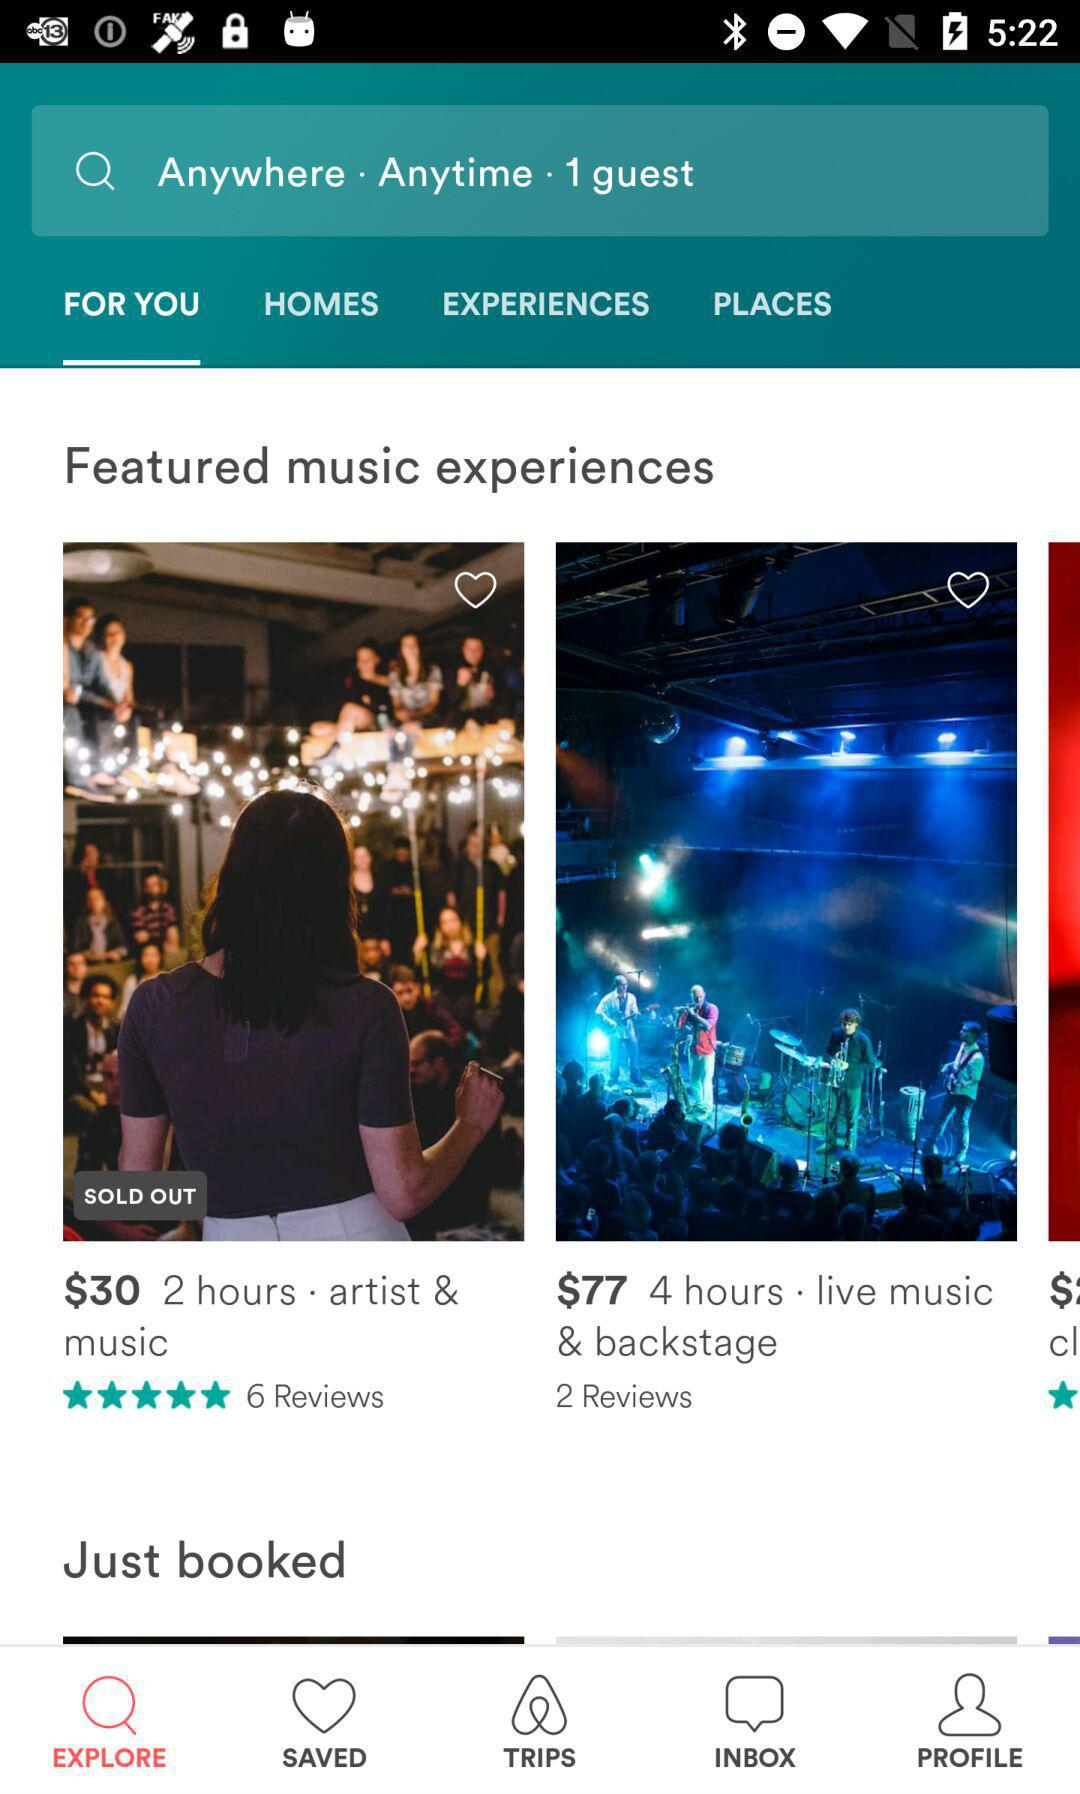Bottom_Navigation: (3, 1645, 1079, 1794)
EditText: (31, 105, 1051, 238)
Icon: (63, 1379, 232, 1410), (937, 1672, 1003, 1738), (292, 1677, 357, 1735), (82, 1675, 141, 1738), (725, 1675, 785, 1734), (454, 572, 498, 611), (945, 572, 990, 610), (76, 152, 117, 192)
Image: (556, 542, 1017, 1240), (64, 543, 525, 1240), (511, 1674, 569, 1736)
Text: (557, 1270, 994, 1365), (65, 1270, 459, 1358), (67, 445, 714, 495), (158, 158, 694, 197), (64, 1539, 346, 1580), (445, 291, 650, 317), (247, 1381, 386, 1410), (556, 1381, 693, 1410), (65, 291, 200, 317), (714, 292, 831, 318), (264, 291, 380, 317), (53, 1747, 168, 1768), (917, 1747, 1024, 1768), (283, 1747, 368, 1768), (714, 1747, 797, 1768), (503, 1747, 578, 1768)
TextButton: (74, 1170, 209, 1221)
UpperTaskBar: (1, 1, 1080, 64)
